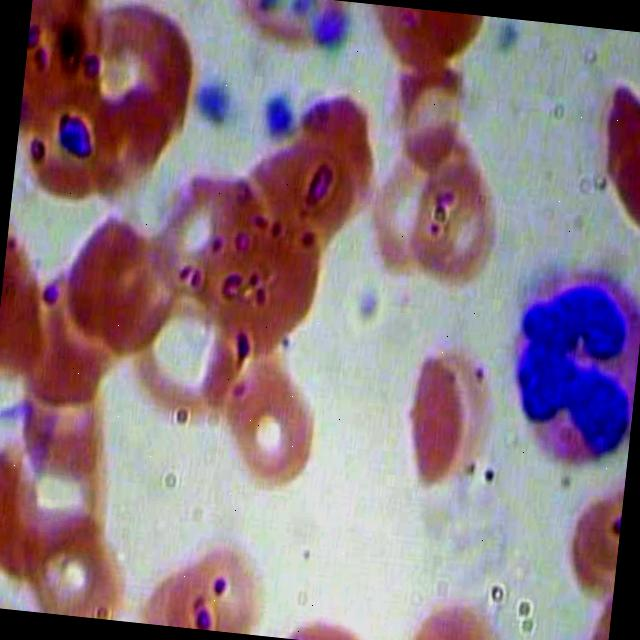Platelets: (250, 81, 302, 151), (188, 67, 240, 137), (310, 0, 361, 58)
RBC: (386, 326, 520, 512), (64, 0, 204, 172), (200, 197, 342, 358), (228, 126, 363, 292), (220, 338, 336, 504), (130, 284, 250, 440), (48, 206, 168, 362), (9, 416, 129, 572), (5, 332, 124, 488), (0, 269, 114, 425), (356, 130, 459, 292), (410, 130, 512, 292), (19, 488, 137, 621), (18, 0, 119, 147), (157, 524, 280, 636), (119, 520, 242, 632), (546, 449, 628, 604), (383, 48, 471, 178), (216, 0, 365, 76), (589, 76, 640, 267), (0, 437, 20, 584)
WBC: (485, 252, 640, 472)
